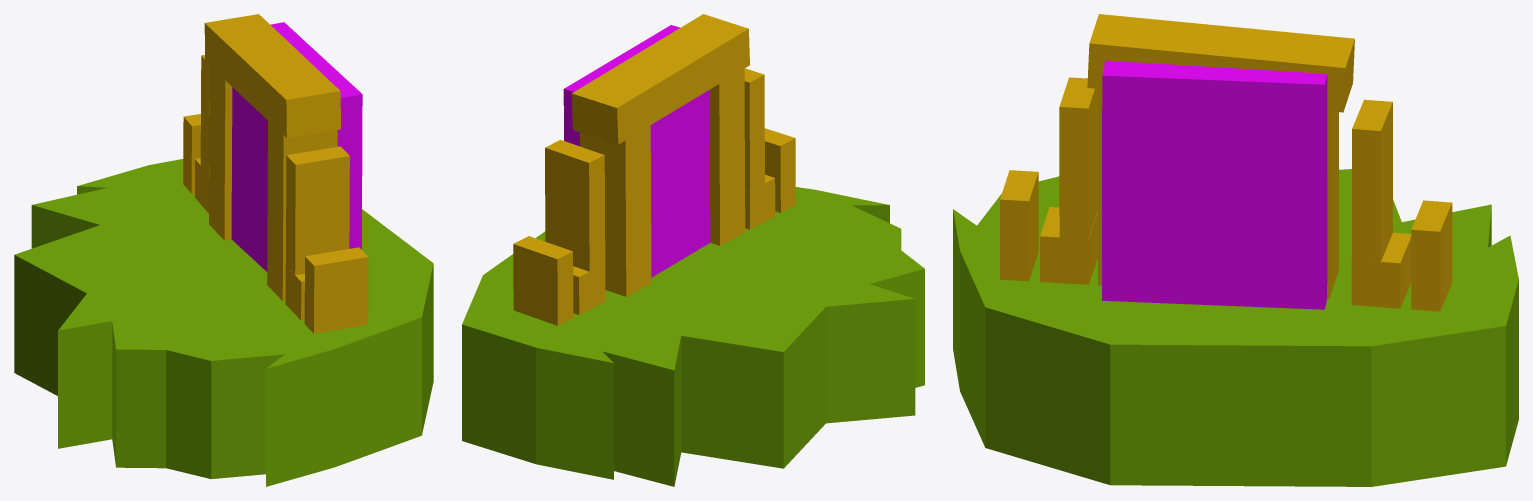
The model's file is SM_W_HighPortal.fbx.
The picture shows the model from 3 angles, left to right: view 1: azimuth 30°, elevation 25°; view 2: azimuth 150°, elevation 25°; view 3: azimuth 270°, elevation 25°; orthographic projection. The views are drawn at different scales.
Visible parts, largest first — view 1: Cube__53_; view 2: Cube__53_; view 3: Cube__53_.
Part boxes in pixels (x1,y1,x2,y2): Cube__53_: (14, 14, 433, 486); Cube__53_: (462, 14, 924, 486); Cube__53_: (953, 14, 1518, 486).
Size of the model in its own units: 219 by 190 by 255.
